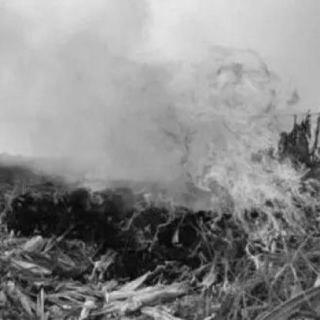Fire: (178, 51, 318, 252)
